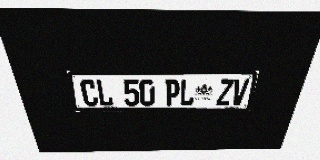0: (139, 79, 154, 106)
5: (123, 79, 140, 106)
C: (79, 79, 99, 106)
L: (95, 79, 114, 106), (179, 79, 195, 106)
P: (164, 79, 180, 106)
V: (230, 79, 250, 105)
Z: (216, 79, 234, 105)
